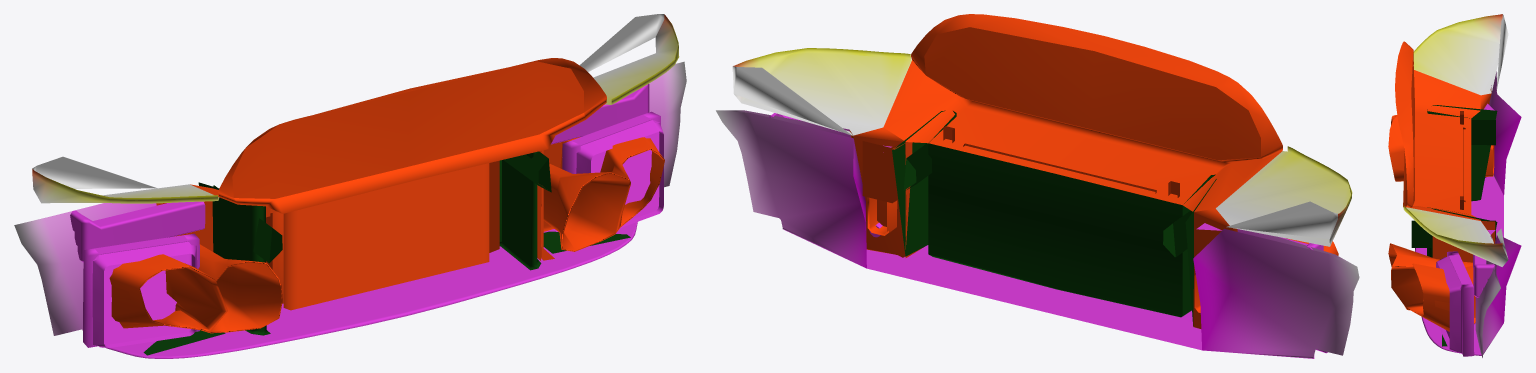
The model's file is Car_Mini_CountrymanJCW_2017_BumperChassisF_SetC_AltD.fbx.
3 views of the same model, side by side, from view 1: azimuth 30°, elevation 25°; view 2: azimuth 150°, elevation 25°; view 3: azimuth 270°, elevation 25° (orthographic). The views are drawn at different scales.
Visible parts, largest first — view 1: BumperChassisF 6; view 2: BumperChassisF 6; view 3: BumperChassisF 6.
Boxes of the visible parts, x1=… form: BumperChassisF 6: x1=14, y1=14, x2=686, y2=358; BumperChassisF 6: x1=716, y1=14, x2=1359, y2=358; BumperChassisF 6: x1=1388, y1=14, x2=1521, y2=357.
Size of the model in its own units: 1.84 by 0.6208 by 0.4265.
